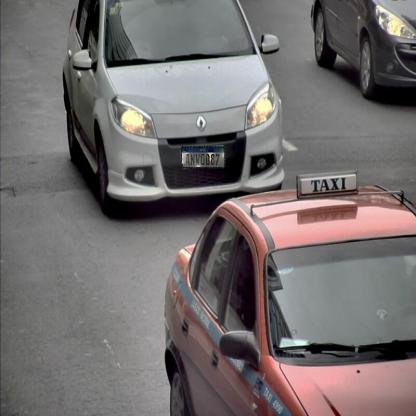PlacaM: (181, 146, 225, 168)
